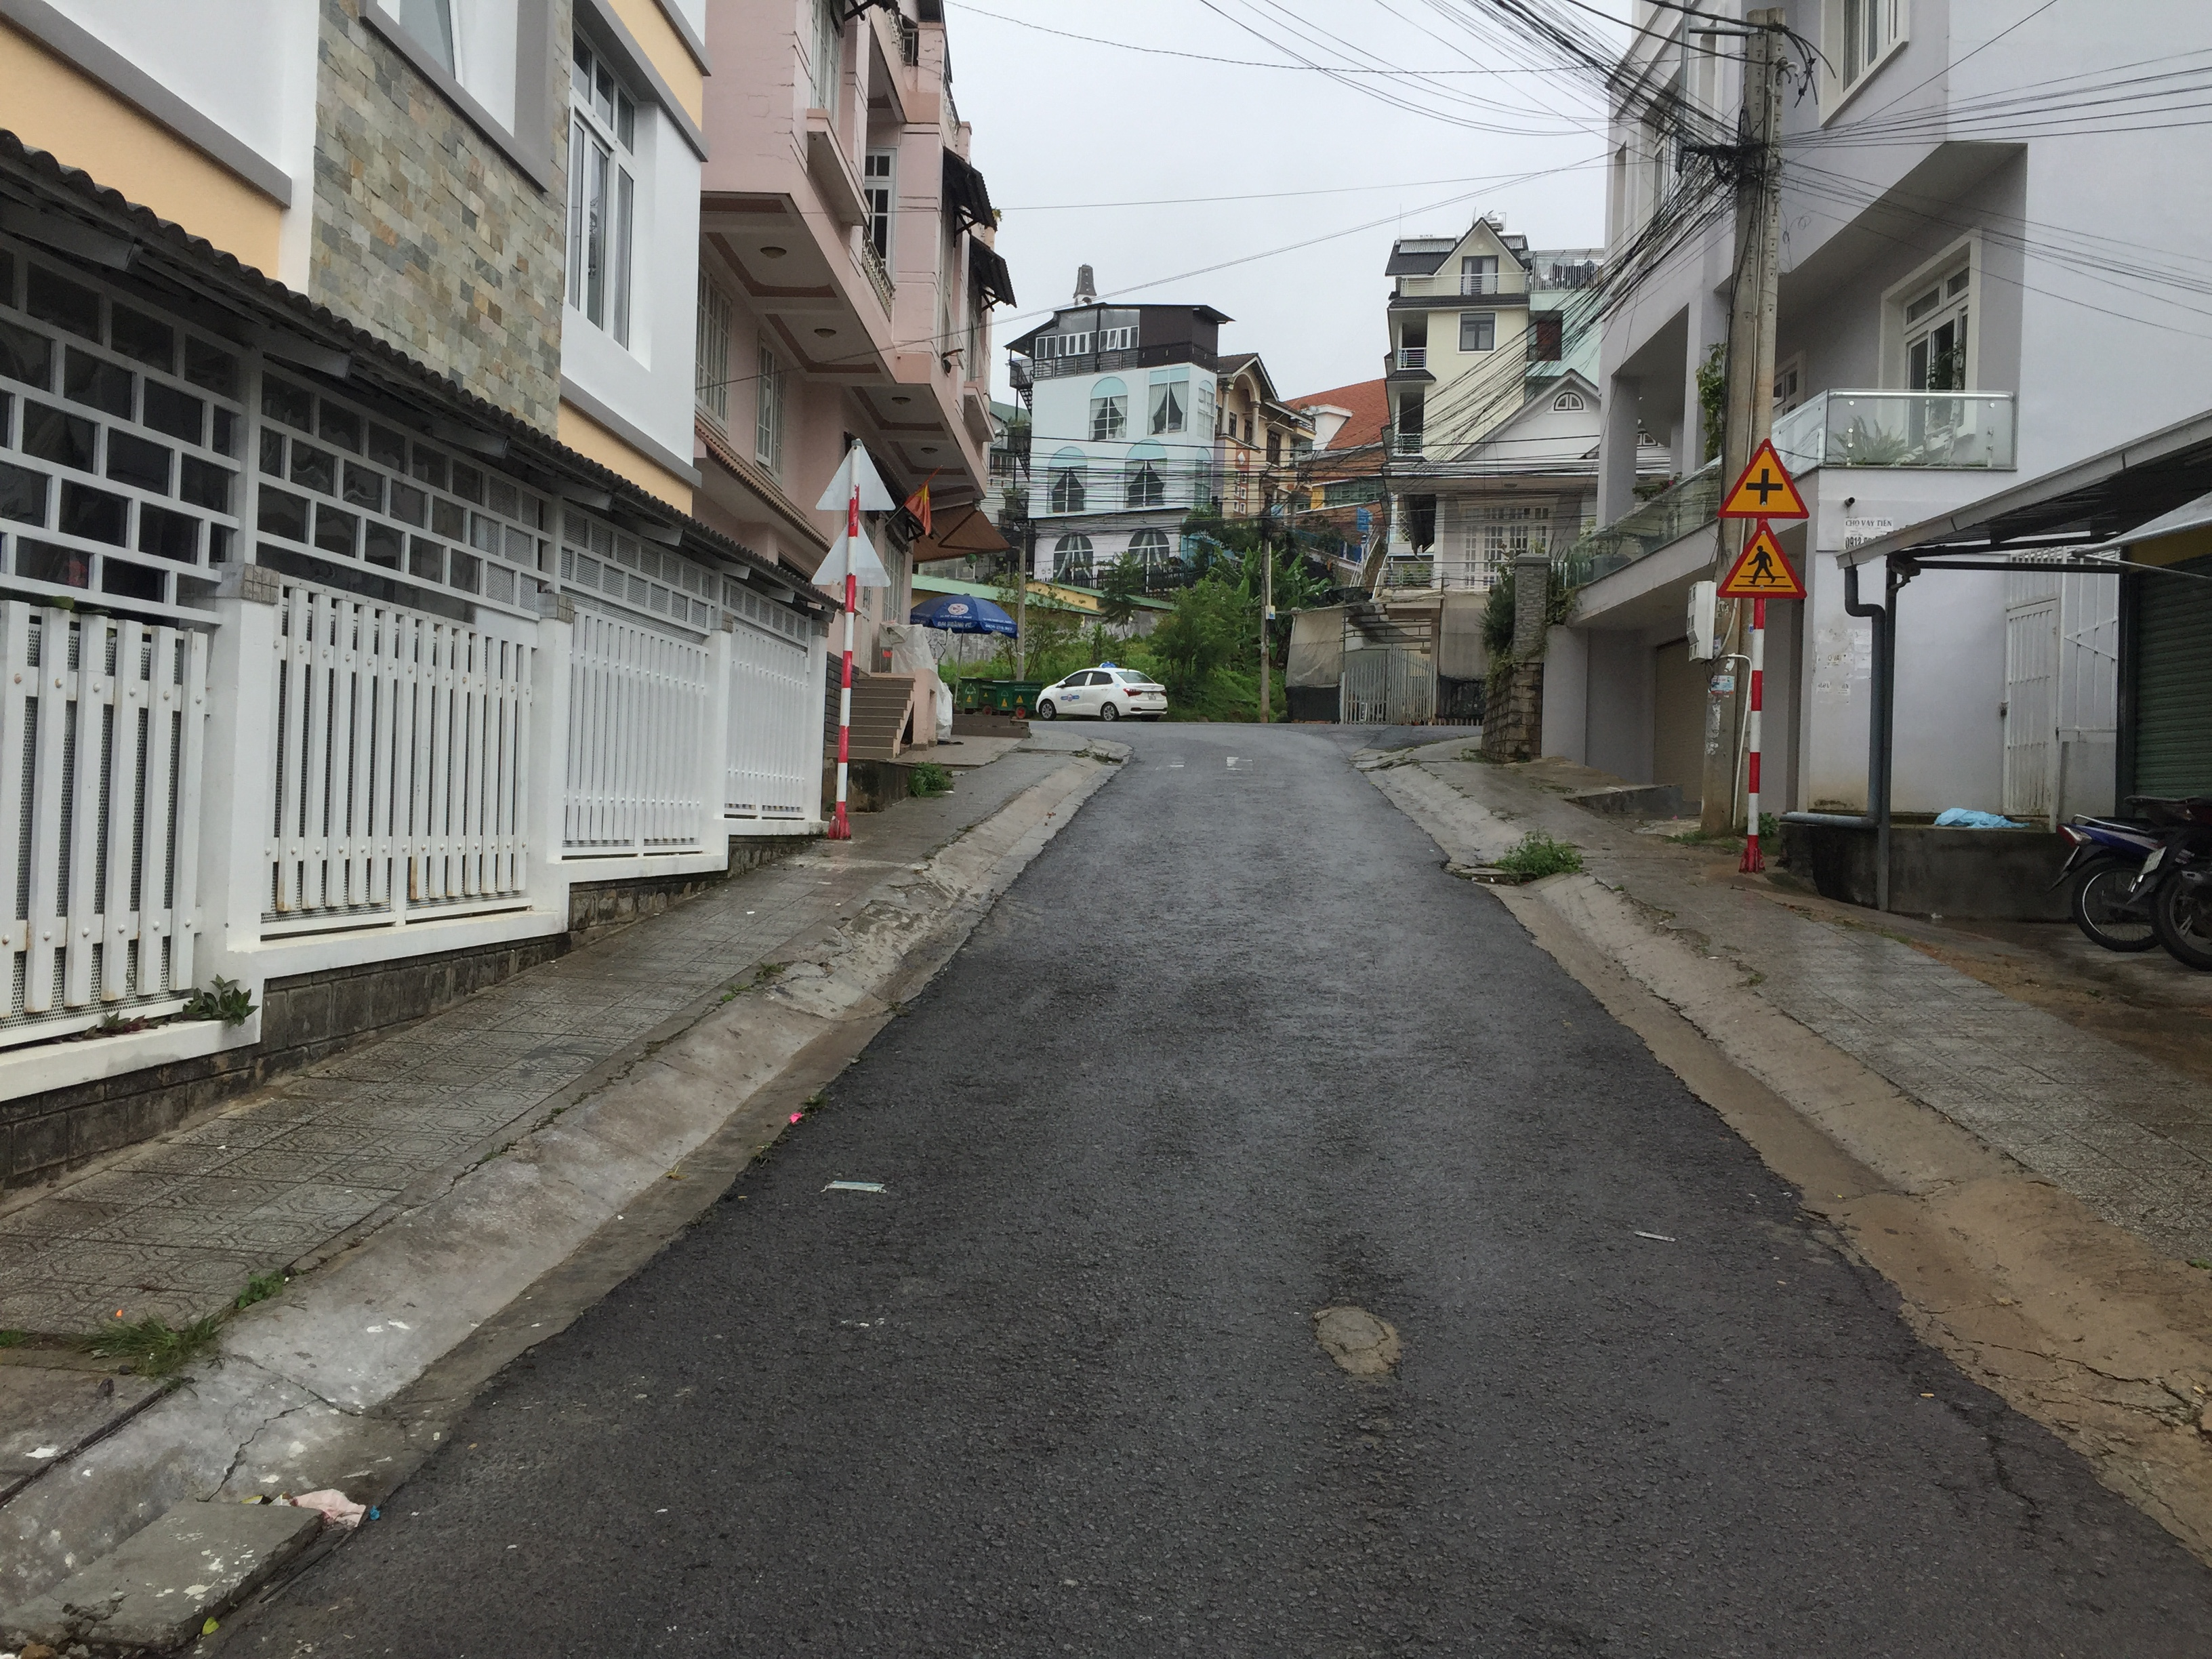hole: (1313, 1300, 1400, 1377)
